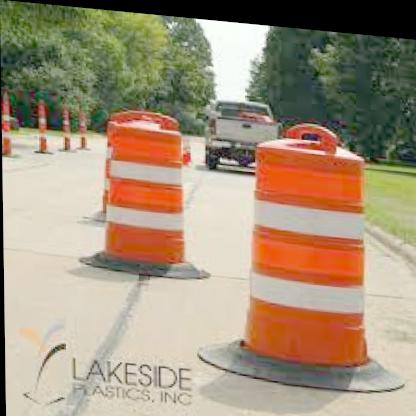obstacle: (247, 124, 372, 374), (99, 107, 186, 265)
